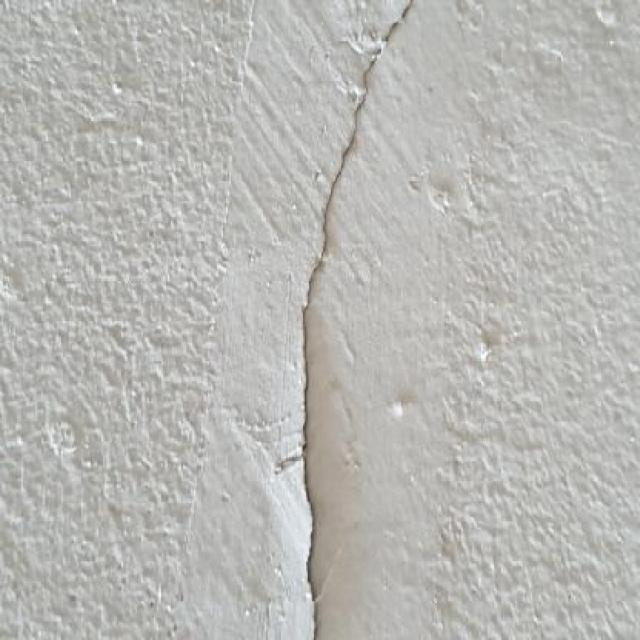GRIETA: (302, 0, 413, 639)
